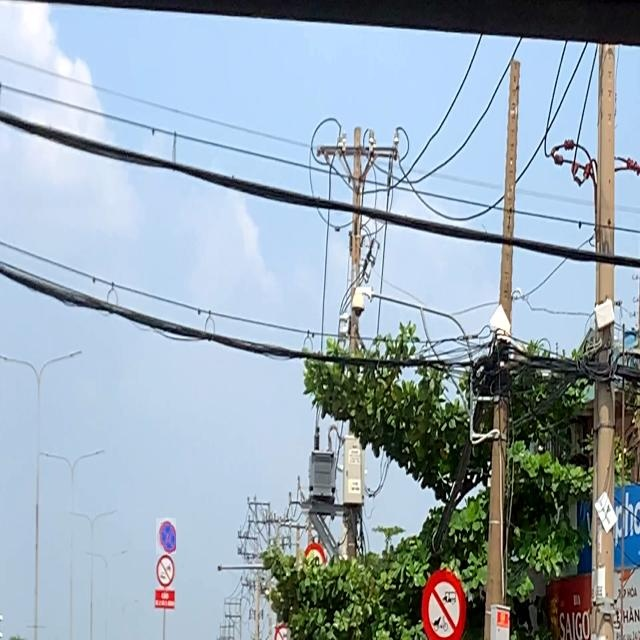bien_cam: (156, 518, 176, 554)
